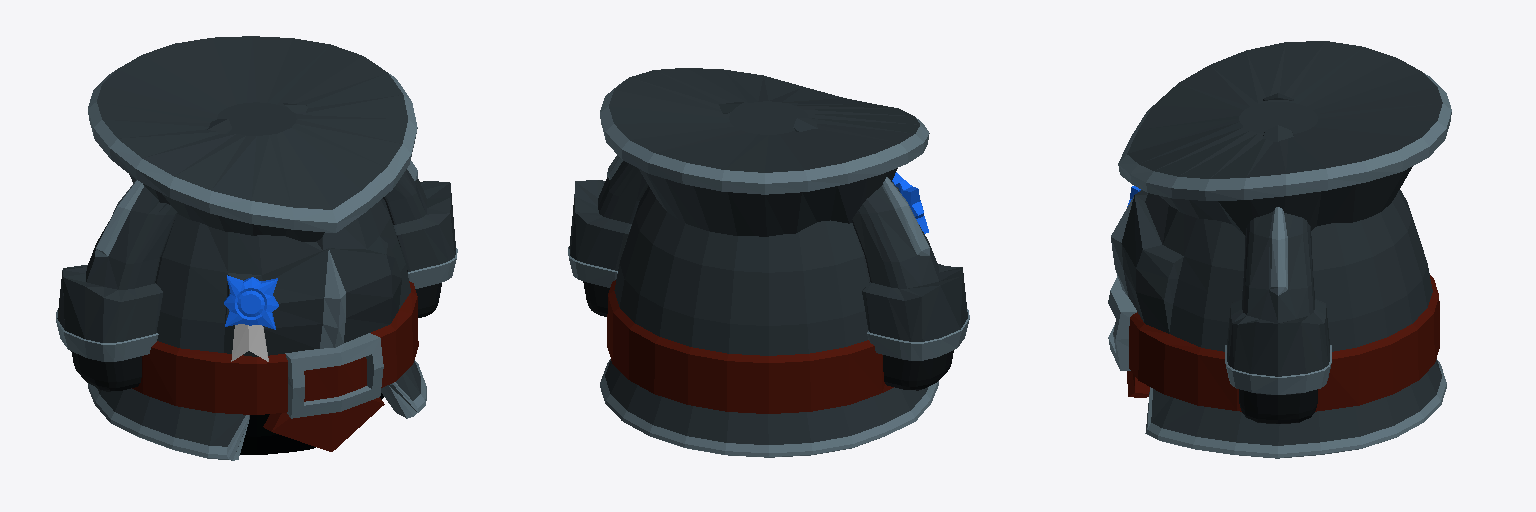
Rendered from character_hunter.obj.
3 renders of one model, left to right at view 1: azimuth 30°, elevation 25°; view 2: azimuth 150°, elevation 25°; view 3: azimuth 270°, elevation 25°, orthographic.
Parts seen in each view (by area): view 1: character_knightBody_Cube.006, character_knightArmRight_Cube.003, character_knightArmLeft_Cube.005; view 2: character_knightBody_Cube.006, character_knightArmRight_Cube.003, character_knightArmLeft_Cube.005; view 3: character_knightBody_Cube.006, character_knightArmLeft_Cube.005.
Part boxes in pixels (left/top/right/bottom): character_knightBody_Cube.006: left=88, top=36, right=426, bottom=460; character_knightArmRight_Cube.003: left=56, top=119, right=231, bottom=391; character_knightArmLeft_Cube.005: left=283, top=103, right=457, bottom=317; character_knightBody_Cube.006: left=600, top=68, right=938, bottom=457; character_knightArmRight_Cube.003: left=793, top=118, right=969, bottom=390; character_knightArmLeft_Cube.005: left=568, top=102, right=743, bottom=316; character_knightBody_Cube.006: left=1108, top=41, right=1451, bottom=458; character_knightArmLeft_Cube.005: left=1225, top=125, right=1331, bottom=423.
Bounding box in the file's own units: 1.01 × 0.7642 × 0.7797.